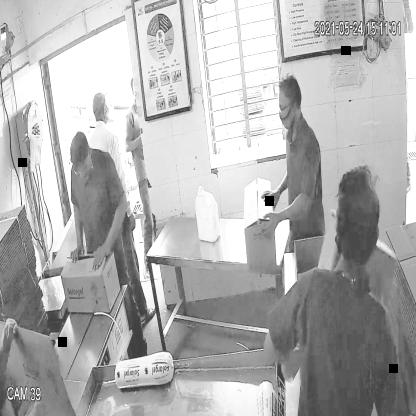goggles: (276, 100, 299, 116)
